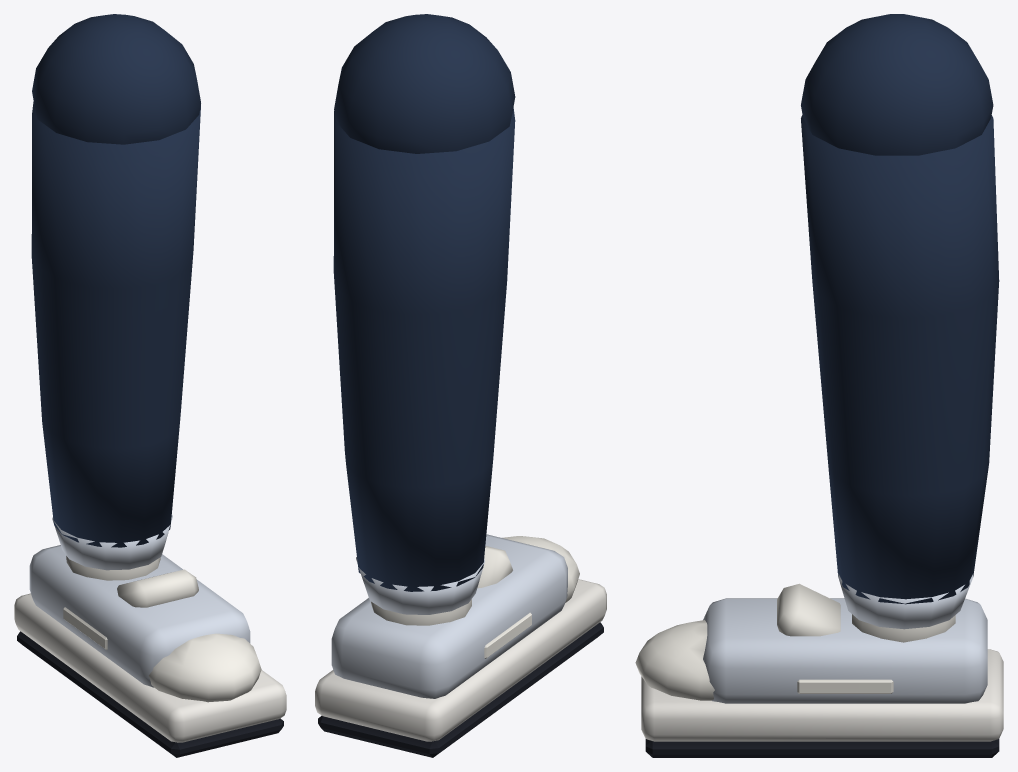
The model's file is coder_shin_l.glb.
3 renders of one model, left to right at view 1: azimuth 30°, elevation 25°; view 2: azimuth 150°, elevation 25°; view 3: azimuth 270°, elevation 25°, orthographic. The views are drawn at different scales.
Parts seen in each view (by area): view 1: CoderPart; view 2: CoderPart; view 3: CoderPart.
Part boxes in pixels (box(x1,y1,x2,y2)): CoderPart: box(14, 14, 286, 757); CoderPart: box(315, 14, 606, 757); CoderPart: box(635, 14, 1003, 757).
Bounding box in the file's own units: 0.13 × 0.544 × 0.256.
